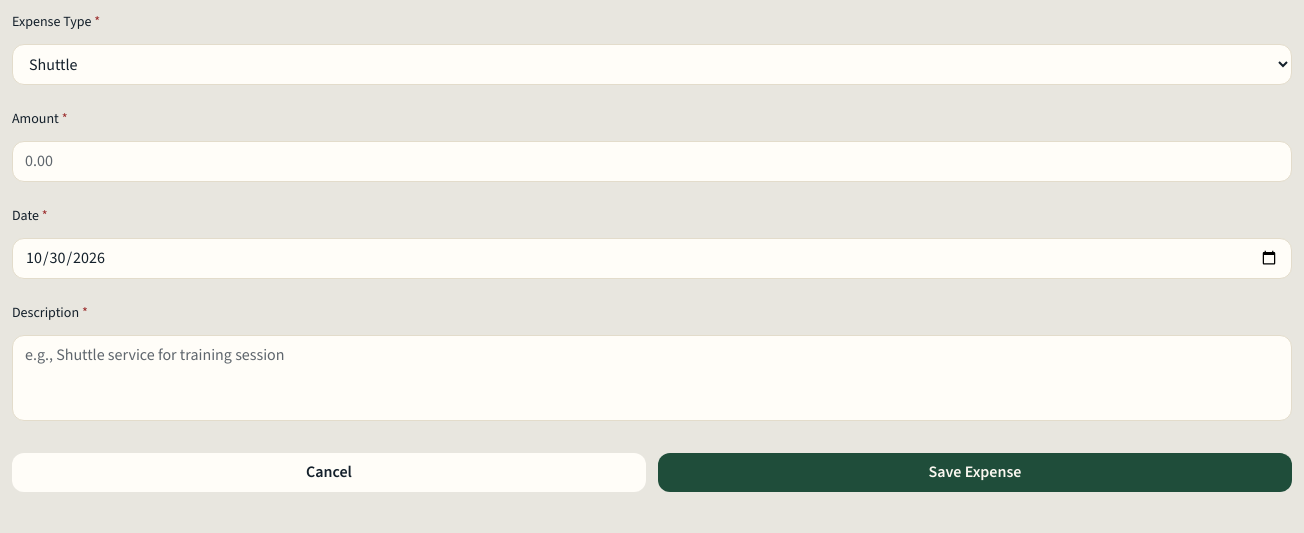
Scenario: AddExpenseForm › Form Validation › shows error for empty description
Type "100" into the number field labelled "Amount *" at (652, 161), box x1=12 y1=141 x2=1292 y2=182
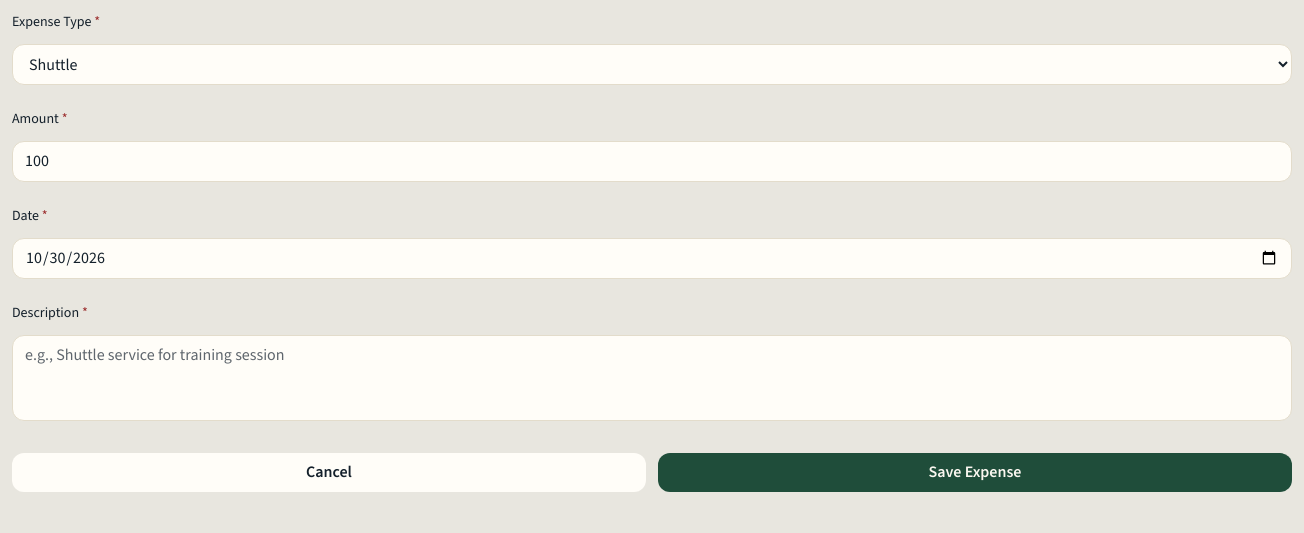
Click the button "Save Expense" at (975, 473), box x1=658 y1=453 x2=1292 y2=492
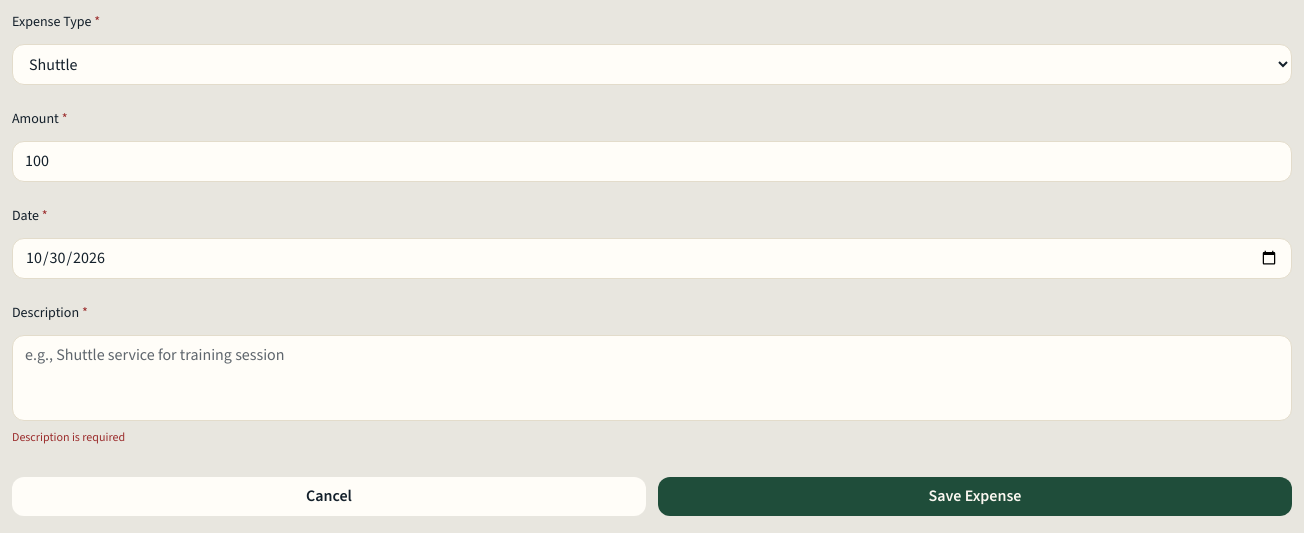
Result: the text "Description is required" is shown at x1=12 y1=429 x2=125 y2=445
